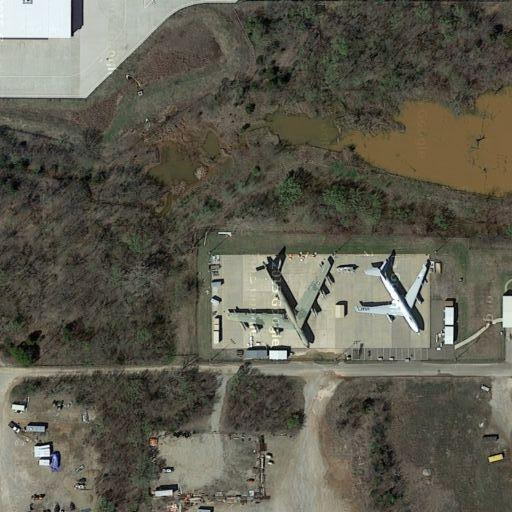B-52: (226, 246, 338, 345)
E-8: (355, 255, 435, 333)
